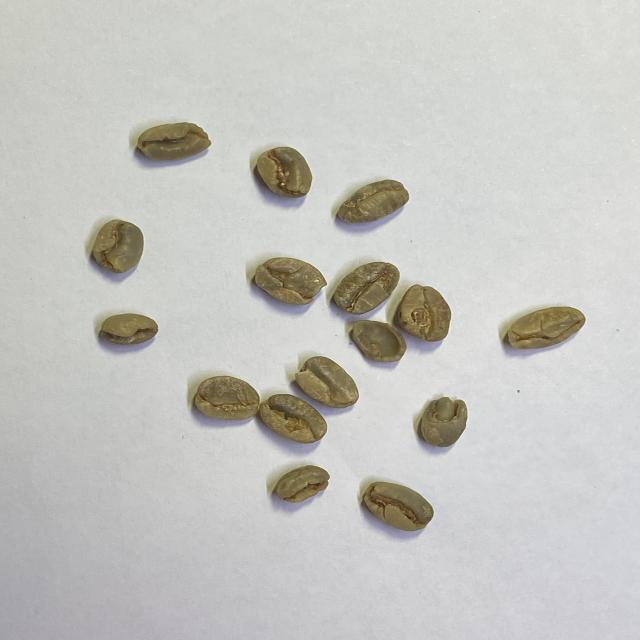bad: (257, 392, 329, 446), (362, 480, 434, 533), (332, 260, 400, 316), (253, 256, 328, 306), (294, 354, 361, 409), (506, 305, 586, 351), (336, 178, 410, 226), (395, 283, 452, 342), (255, 145, 313, 202), (136, 120, 213, 162), (194, 373, 260, 422), (91, 218, 146, 275), (419, 396, 469, 450), (349, 319, 408, 364), (274, 464, 332, 504), (98, 312, 162, 348)
